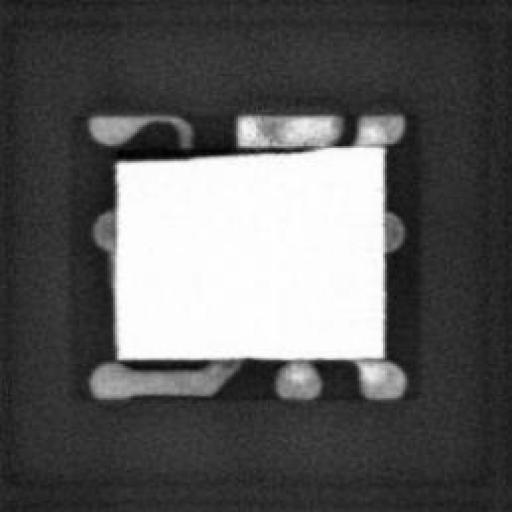DIE_BROKEN: (111, 142, 312, 161)
